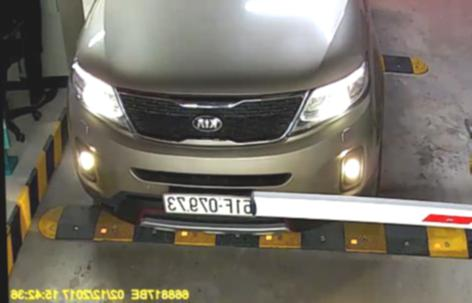License_Plate: (161, 189, 262, 219)
